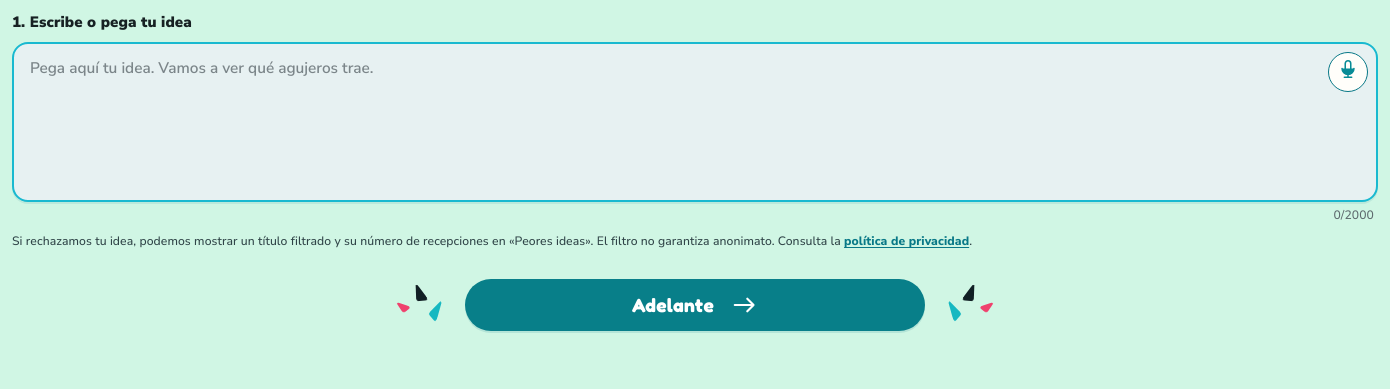
Test: GetUserIdea › shows the idea step first, validates it, and advances to tone selection
Expected: the text box labelled "1. Escribe o pega tu idea" is shown, [12,42,1378,202]
Expected: the text "Si rechazamos tu idea" shows "Si rechazamos tu idea, podemos mostrar un título filtrado y su número de recepciones en «Peores ideas». El filtro no garantiza anonimato. Consulta la política d", [12,233,972,249]
Click the button "Adelante".
click(695, 305)  # box [465,279,925,331]
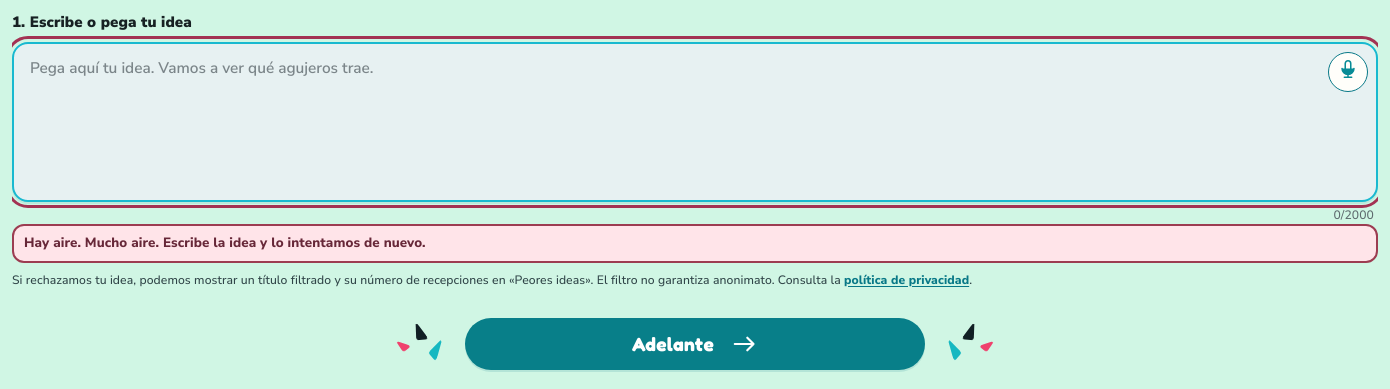
Expected: the message shows "Hay aire", [24,233,426,252]
Type "Una aplicación para organizar los turnos de una clínica" into the text box labelled "1. Escribe o pega tu idea".
click(695, 122); type("Una aplicación para organizar los turnos de una clínica")  # box [12,42,1378,202]
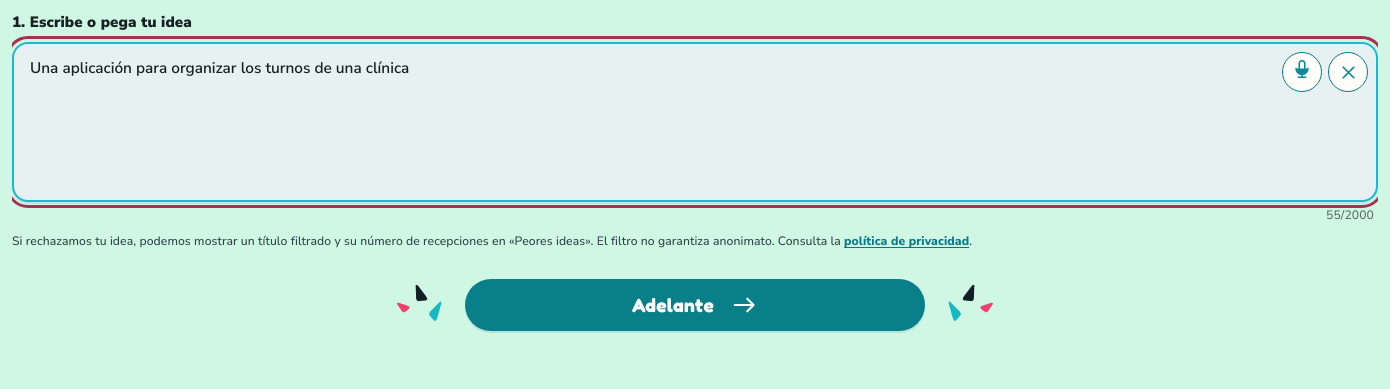
Click the button "Adelante".
click(695, 305)  # box [465,279,925,331]
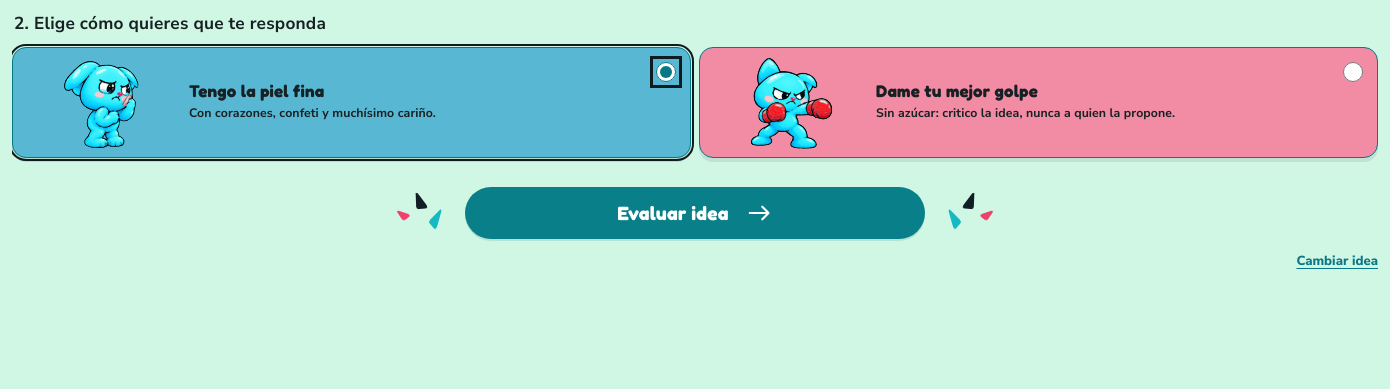
Expected: the radio button labelled "Tengo la piel fina" is shown, [656,62,676,82]
Expected: the text "Con corazones, confeti y muchísimo cariño." is shown, [189,105,436,121]
Expected: the text "Sin azúcar: critico la idea, nunca a quien la propone." is shown, [876,105,1175,121]
